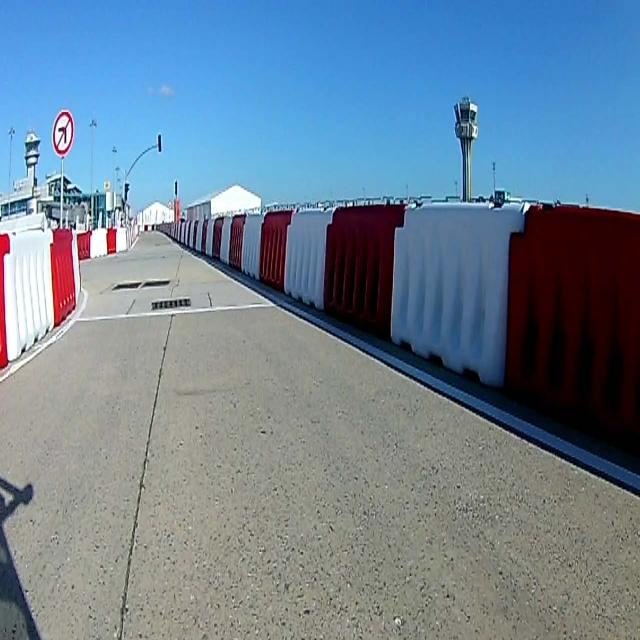soladonulmez: (54, 109, 74, 153)
